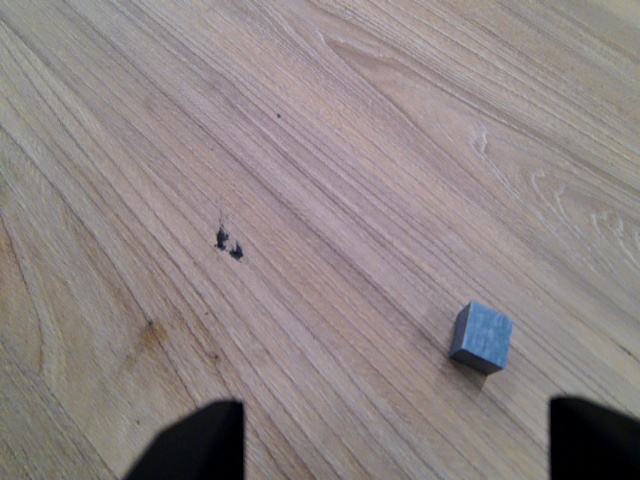stone: (451, 300, 515, 378)
